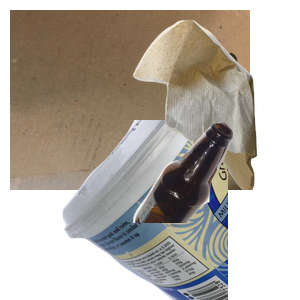cardboard: (10, 10, 250, 190)
glass: (130, 120, 300, 300)
plastic: (60, 120, 300, 300)
trash: (131, 17, 300, 197)
